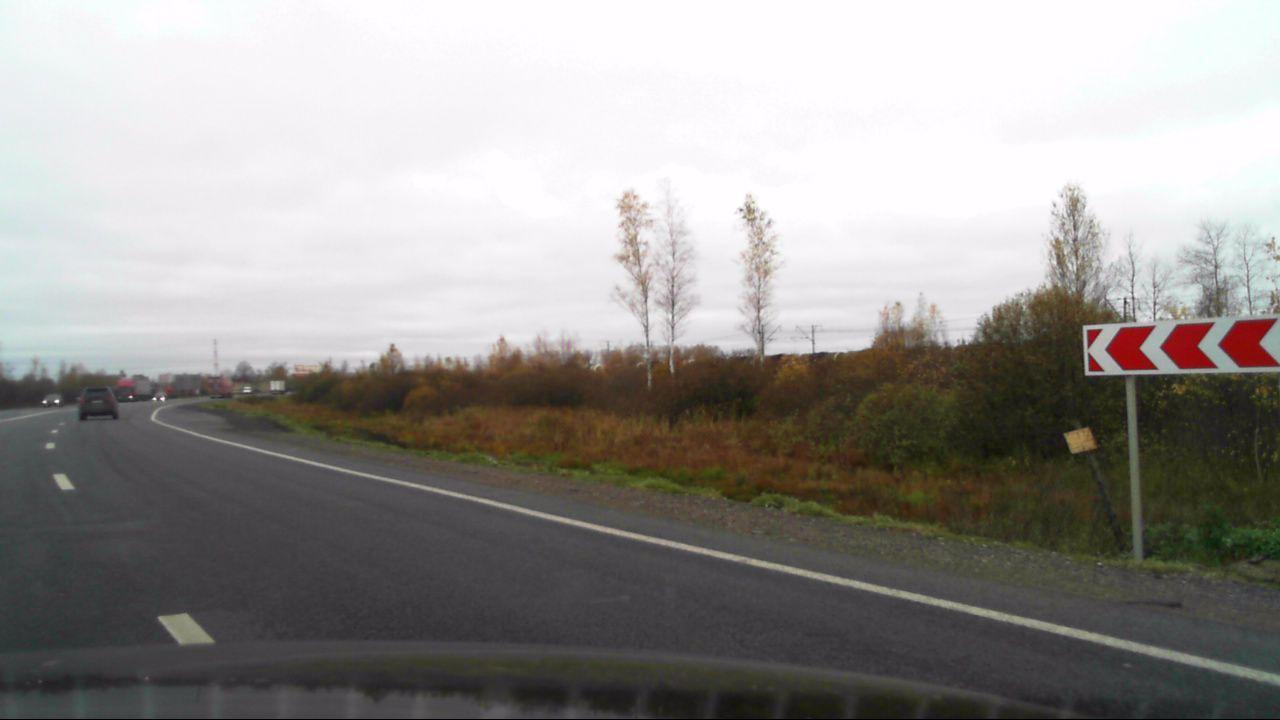road_sign: (1083, 315, 1280, 375)
